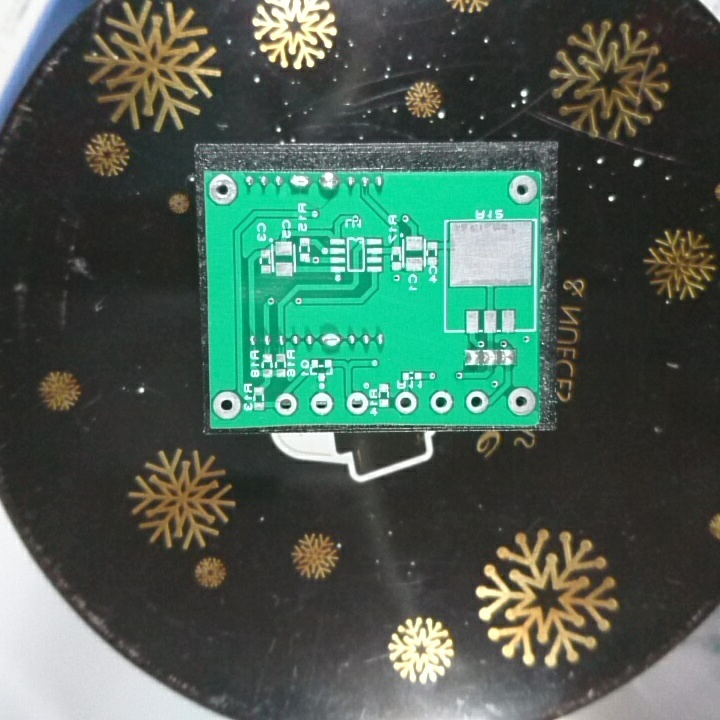F: (206, 171, 239, 207), (506, 174, 540, 206), (505, 384, 537, 417), (211, 390, 242, 421), (308, 389, 335, 418), (344, 389, 370, 419), (273, 392, 300, 418), (392, 390, 419, 416), (463, 388, 489, 415), (429, 389, 454, 417)
P: (316, 170, 341, 194), (286, 173, 315, 192), (319, 331, 342, 350)
